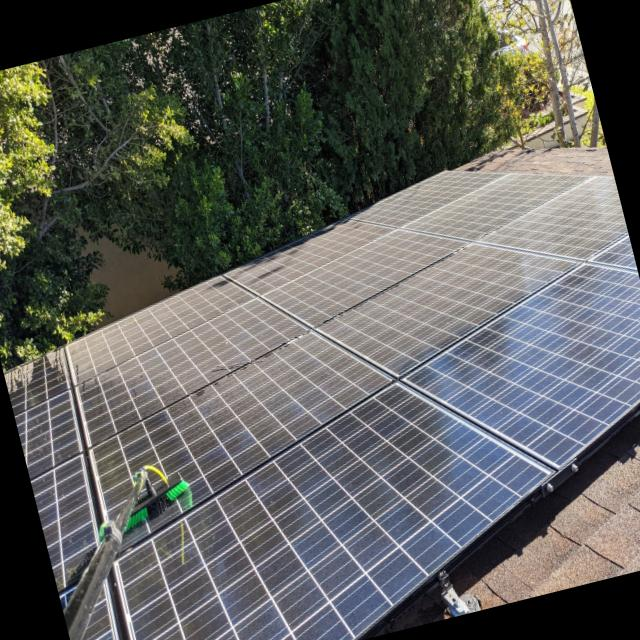faulty: (69, 169, 620, 448)
